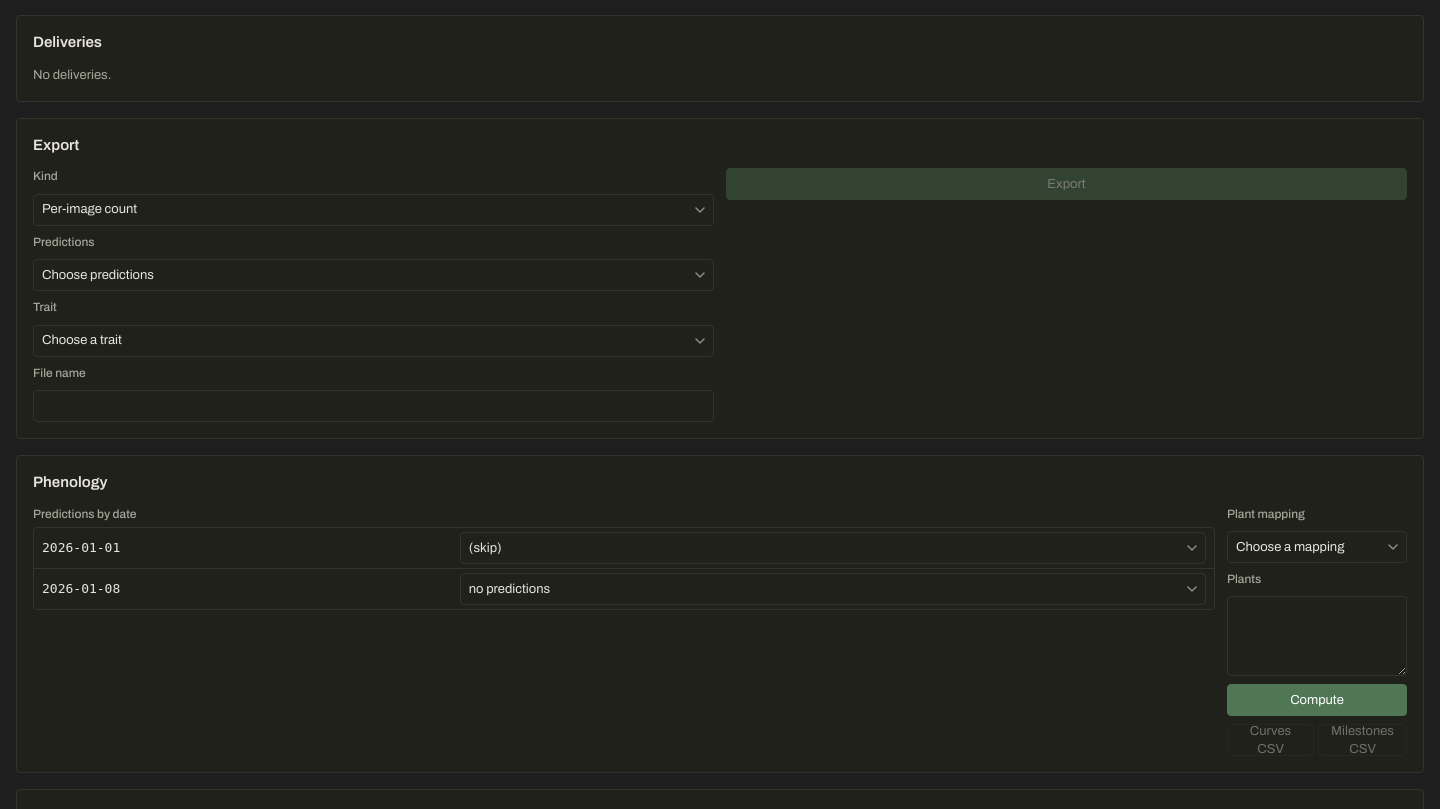
Scenario: ResultsTab evidence gate › opens both CSV doors once the same rows arrive on validated evidence
Expected: the text "2026-01-01" is shown, top-left (34, 528), bottom-right (460, 568)
Step 1. Select "baseline/2026-01-01" in the dropdown titled "The bucket whose predictions to use for this date" → [833, 548], box top-left (460, 532), bottom-right (1206, 564)
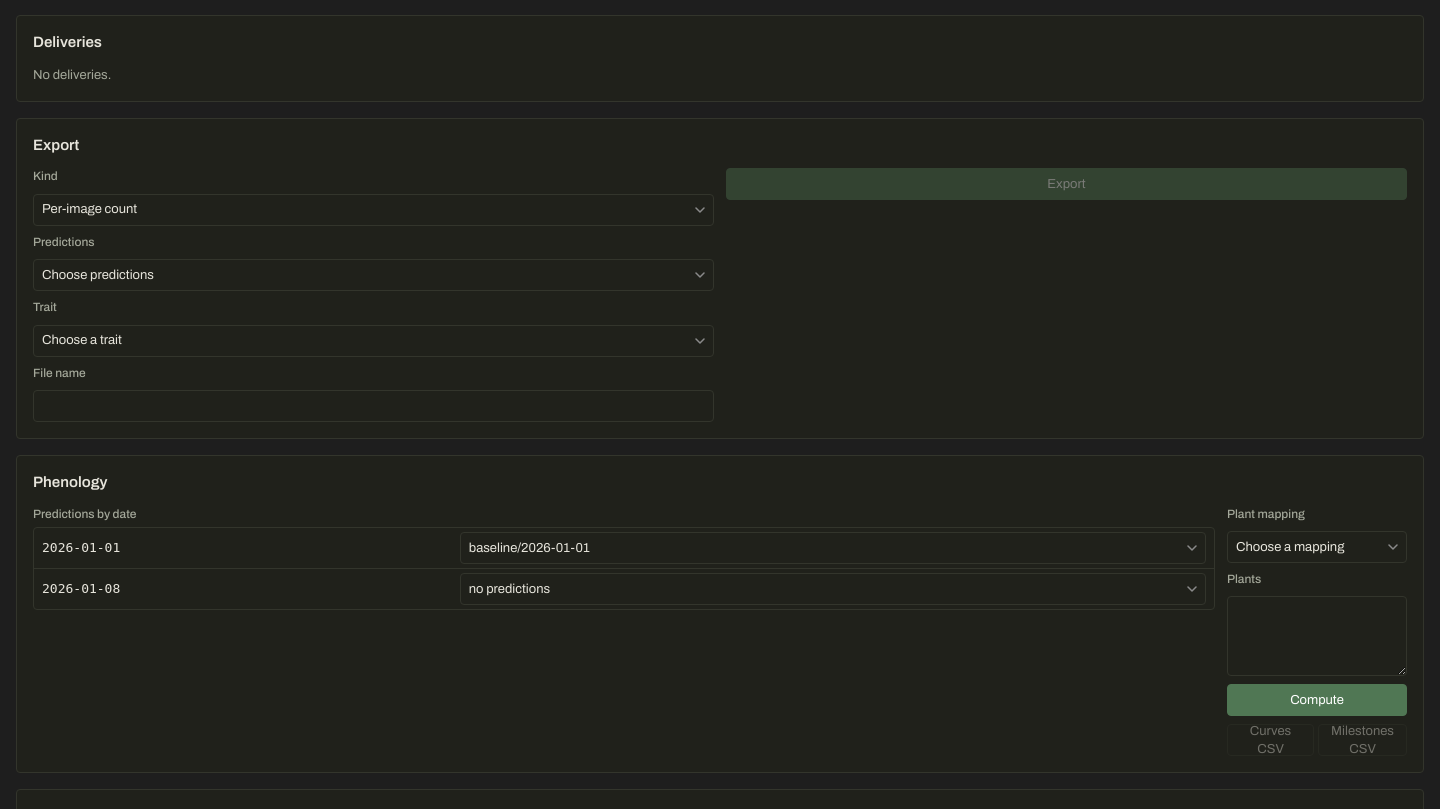
Step 2. Type "P1" into the text box labelled "Plants" → [1317, 636], box top-left (1227, 596), bottom-right (1407, 676)
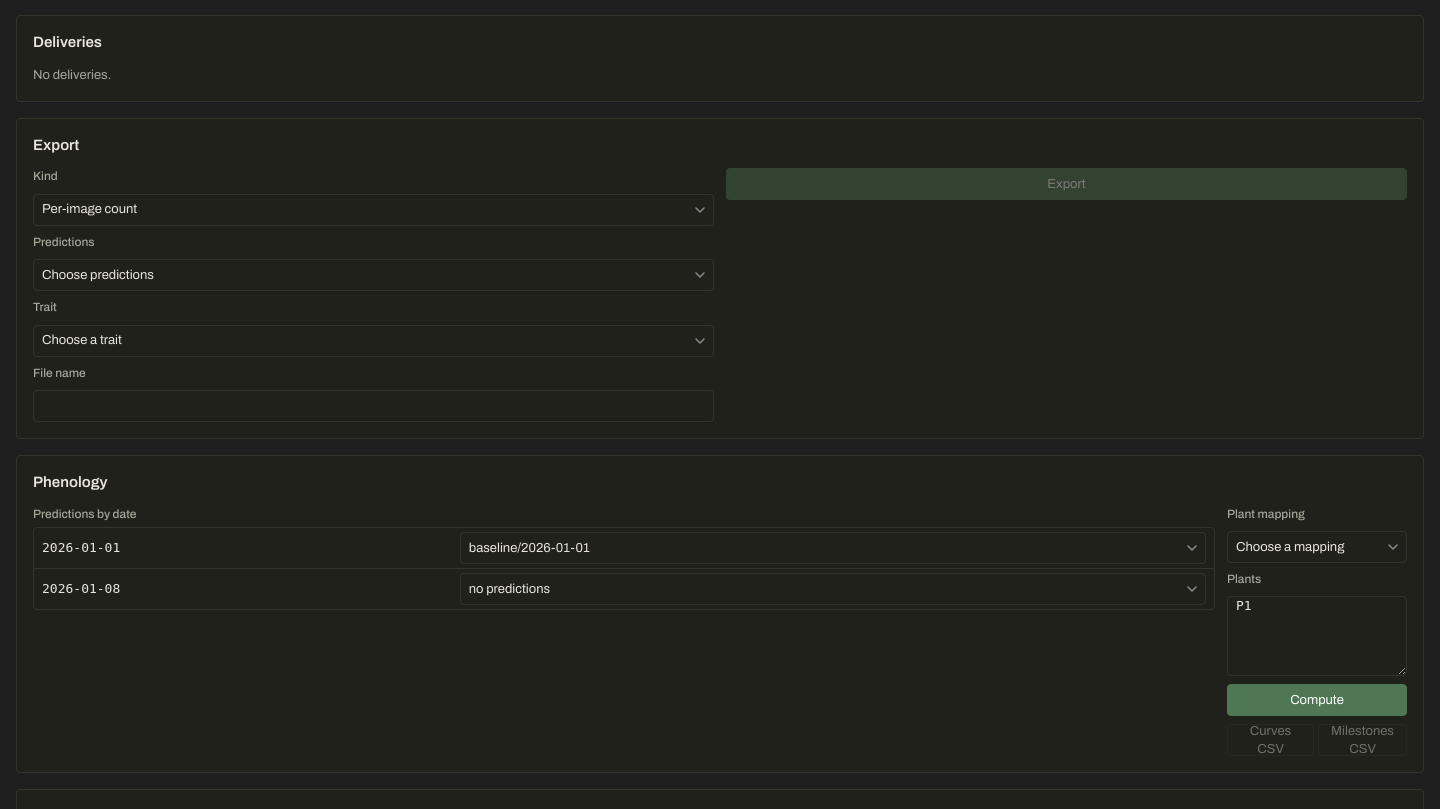
Step 3. Click the button "Compute" → [1317, 700], box top-left (1227, 684), bottom-right (1407, 716)
(page scrolled)
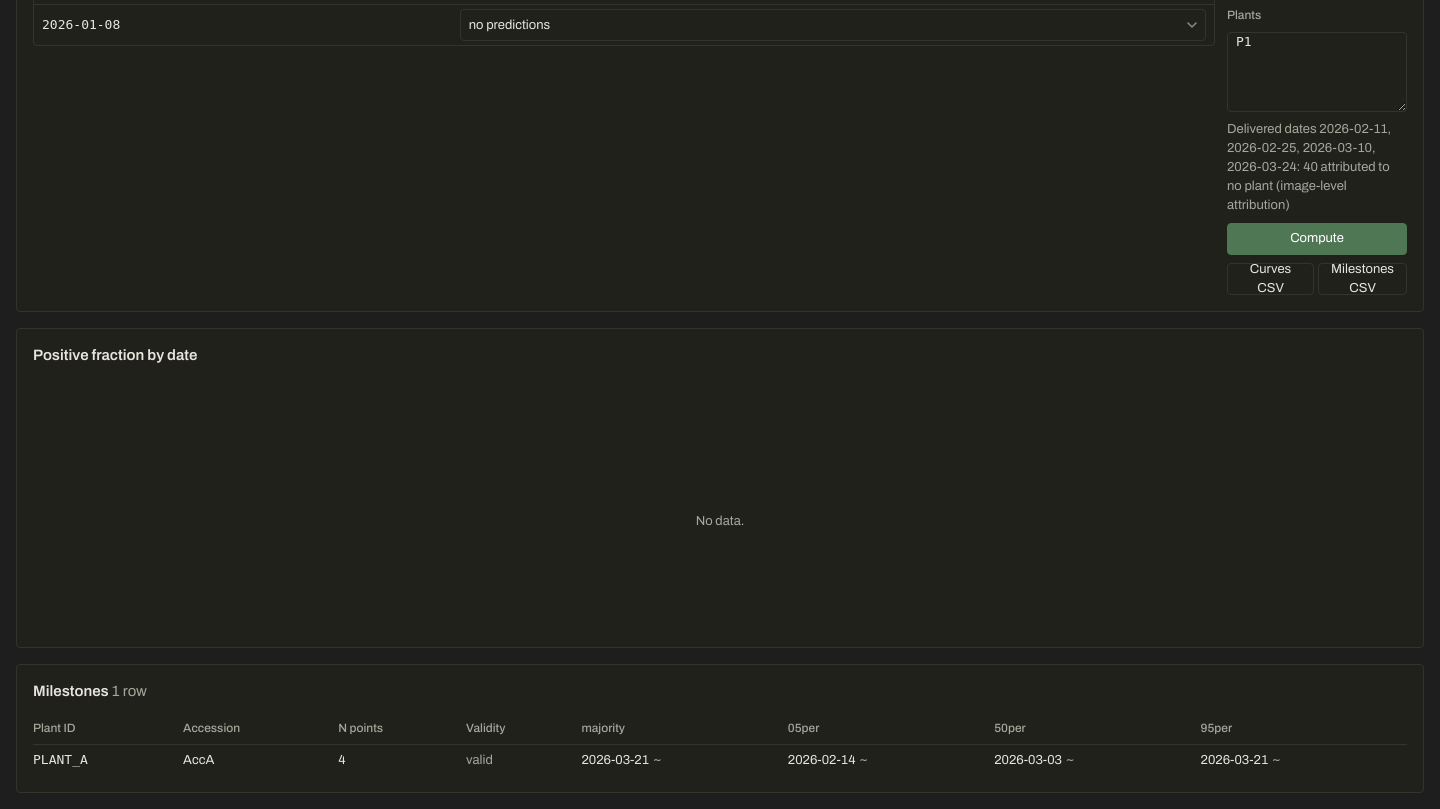
Now the text "PLANT_A" is shown, box top-left (33, 744), bottom-right (183, 776)
Now the button "Curves CSV" is enabled, box top-left (1227, 263), bottom-right (1314, 295)
Now the button "Milestones CSV" is enabled, box top-left (1318, 263), bottom-right (1407, 295)
